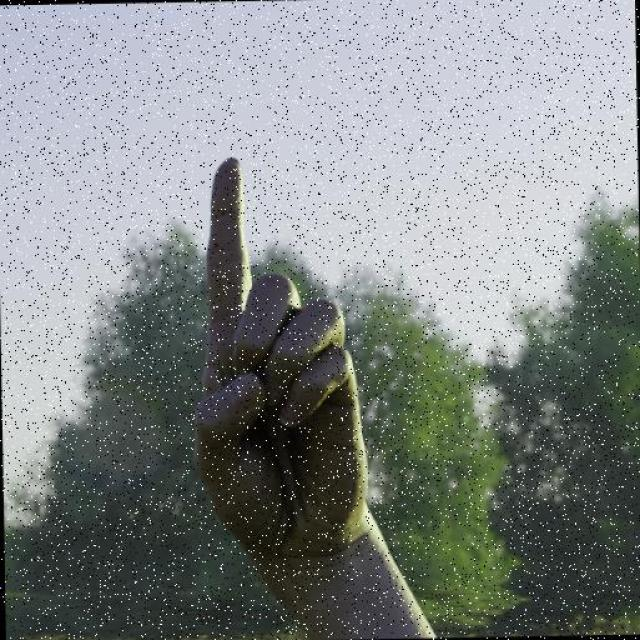D: (187, 150, 371, 560)
